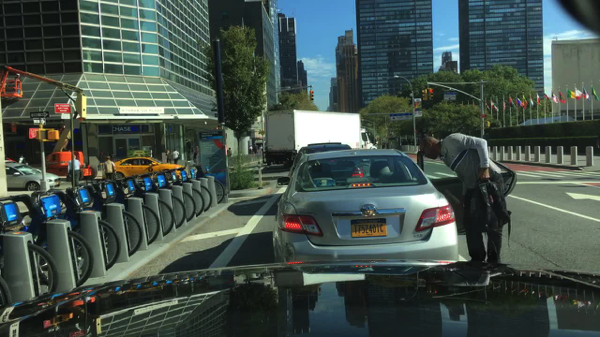bike: (0, 192, 94, 286), (0, 200, 60, 301), (51, 188, 121, 271), (76, 184, 143, 258), (97, 177, 161, 246), (119, 177, 174, 237), (139, 174, 184, 231), (155, 173, 196, 224), (169, 173, 205, 218), (195, 165, 226, 205), (185, 169, 212, 212), (1, 274, 11, 310)
car: (271, 147, 517, 265), (0, 63, 97, 182), (288, 140, 353, 178), (5, 155, 62, 191), (113, 156, 185, 176)
person: (417, 130, 512, 265), (67, 153, 82, 189), (103, 153, 115, 180), (173, 147, 181, 166), (18, 153, 28, 167), (192, 146, 199, 164), (165, 149, 171, 165), (226, 146, 233, 159), (249, 146, 253, 155), (260, 144, 263, 152)
traffic light: (46, 129, 59, 141), (37, 128, 48, 141), (421, 88, 428, 102), (428, 88, 433, 101), (485, 121, 490, 128), (310, 92, 313, 102)
traffic sign: (148, 149, 197, 271), (54, 103, 71, 114), (388, 114, 411, 121), (30, 111, 50, 118), (28, 129, 40, 140), (443, 90, 455, 101), (34, 118, 46, 125), (414, 111, 422, 118), (413, 98, 421, 103), (260, 130, 264, 136)
truck: (262, 107, 379, 169)
